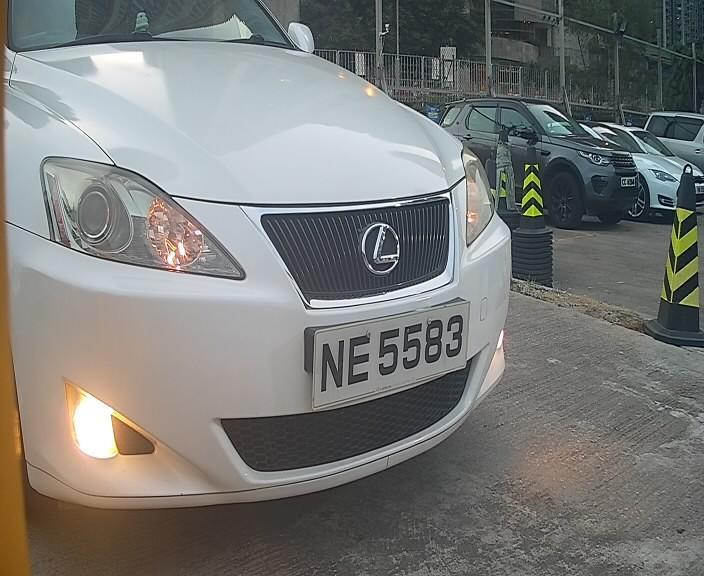privatecar: (7, 1, 521, 547)
